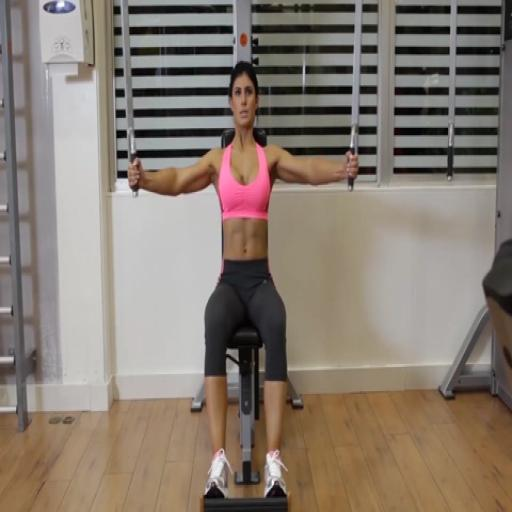exercise: (126, 60, 360, 503)
